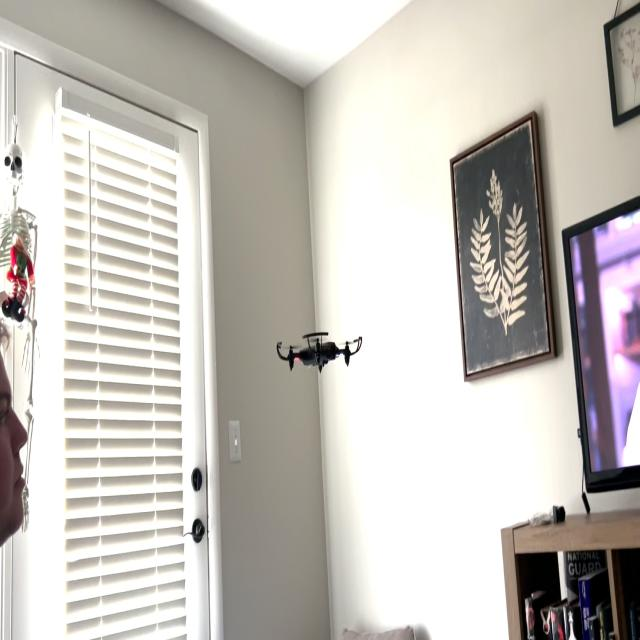drone: (266, 308, 374, 386)
